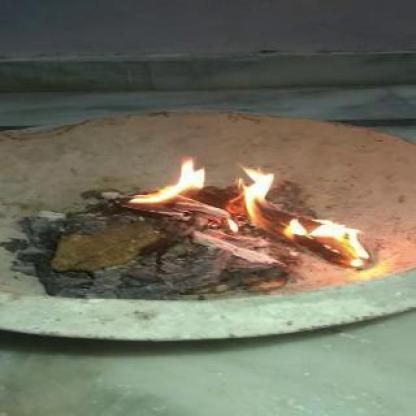fire: (123, 150, 366, 272)
